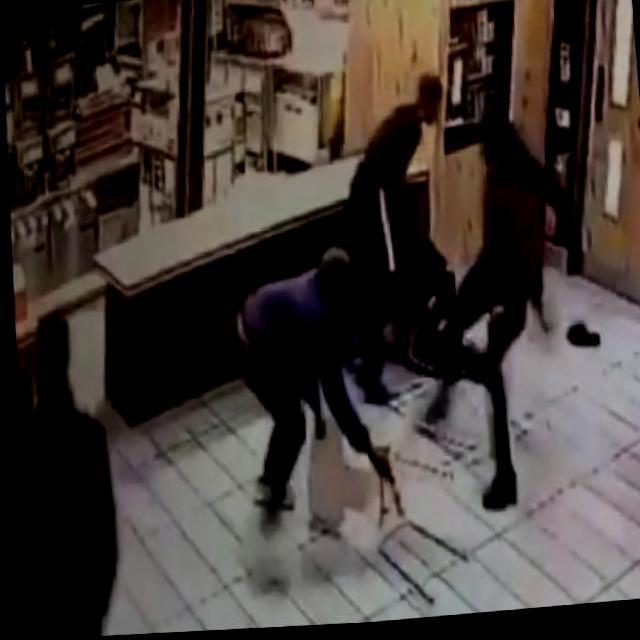fight: (332, 70, 474, 382)
